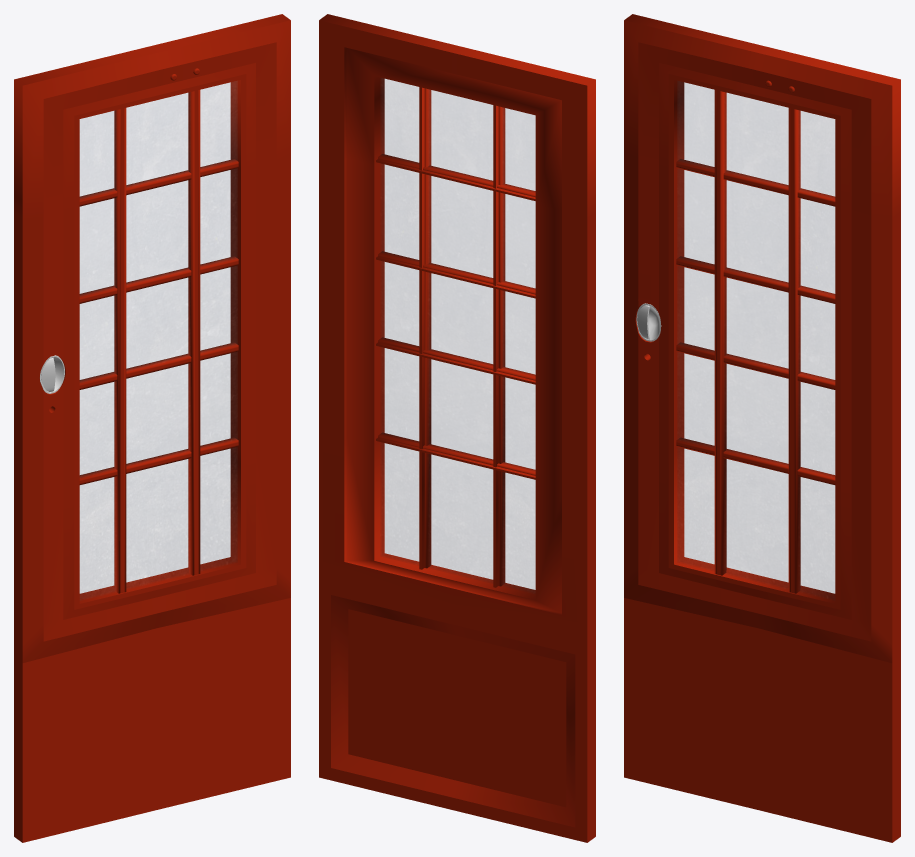
File: door anim.fbx
3 renders of one model, left to right at view 1: azimuth 30°, elevation 25°; view 2: azimuth 150°, elevation 25°; view 3: azimuth 330°, elevation 25°, orthographic.
Visible parts, largest first — view 1: door; view 2: door; view 3: door.
Part boxes in pixels (x1,y1,x2,y2): door: (14, 14, 290, 842); door: (319, 14, 595, 842); door: (624, 14, 900, 842).
Size of the model in its own units: 199 by 537 by 17.35.
